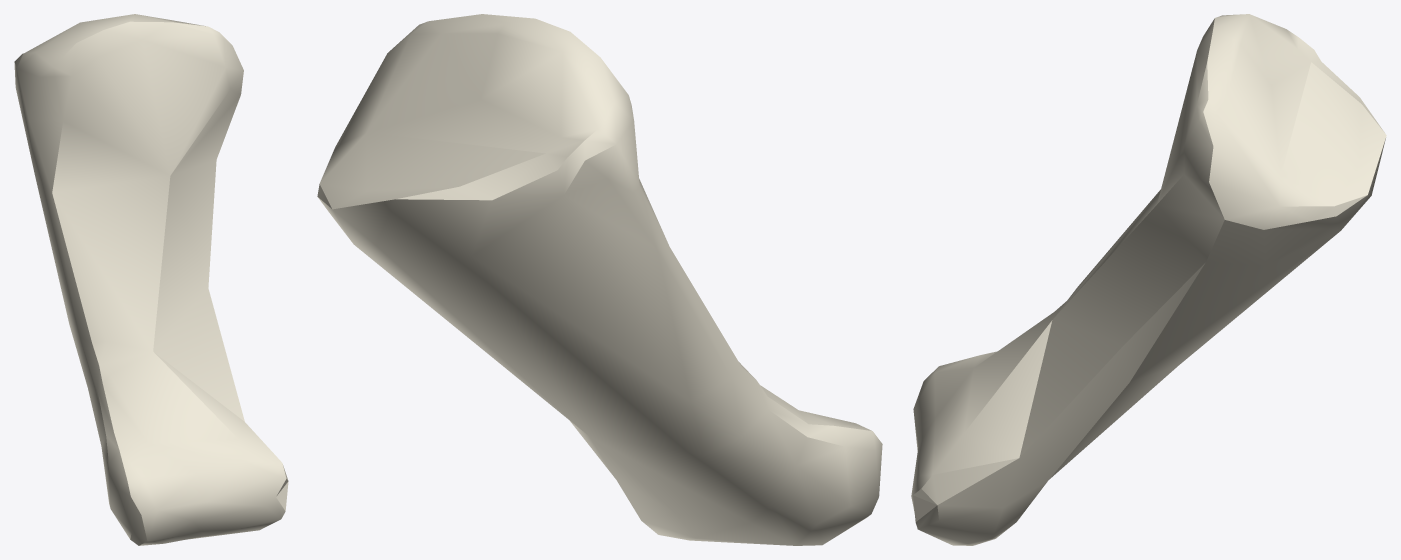
Rendered from fma23944_fj3297.glb.
The picture shows the model from 3 angles, left to right: view 1: azimuth 30°, elevation 25°; view 2: azimuth 150°, elevation 25°; view 3: azimuth 270°, elevation 25°; orthographic projection. The views are drawn at different scales.
Visible parts, largest first — view 1: FMA23944_FJ3297; view 2: FMA23944_FJ3297; view 3: FMA23944_FJ3297.
Boxes of the visible parts, bbox=[...] form: FMA23944_FJ3297: bbox=[14, 14, 288, 545]; FMA23944_FJ3297: bbox=[317, 14, 882, 545]; FMA23944_FJ3297: bbox=[911, 14, 1386, 545].
Bounding box in the file's own units: 0.0114 × 0.0196 × 0.0166.
